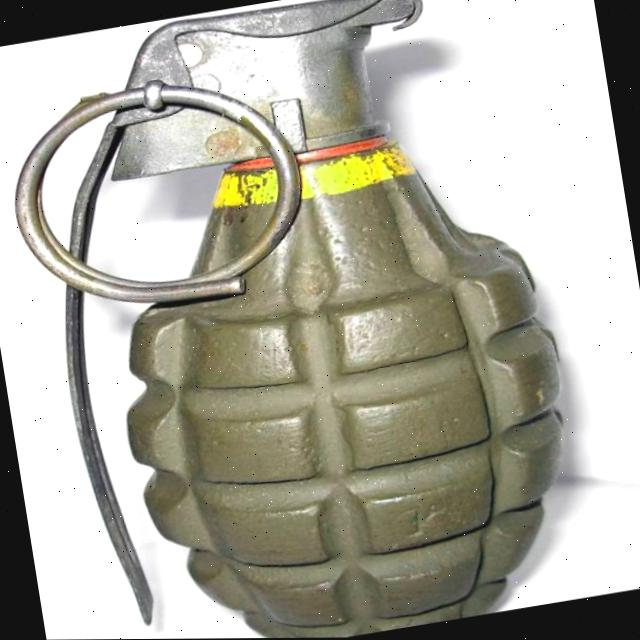grenade: (0, 0, 605, 640)
